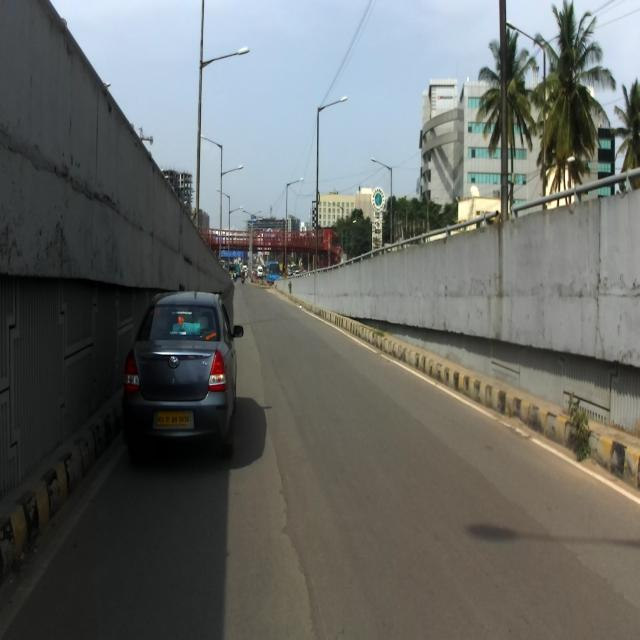car ahead at: (124, 285, 244, 451)
